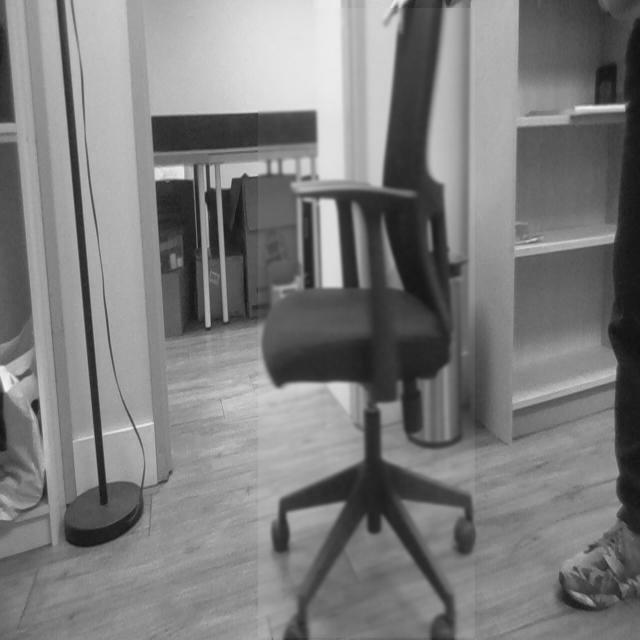chair: (258, 8, 476, 640)
